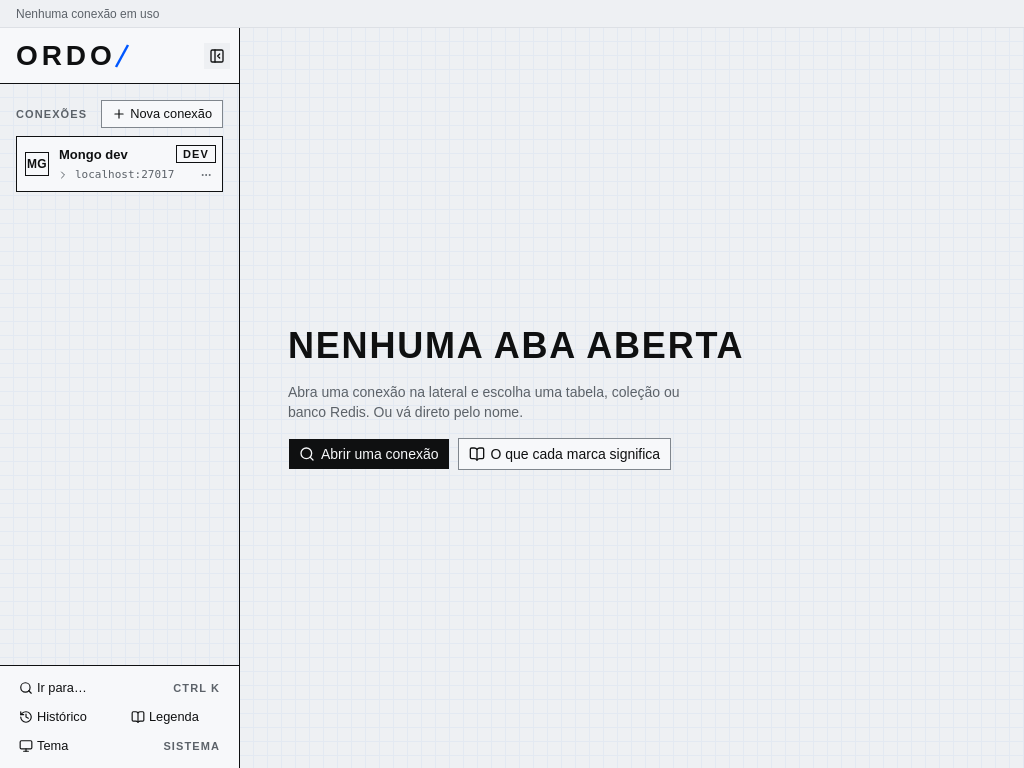
backend errors stay in the editor so the edit is not lost
Click the list item "MG Mongo dev Dev localhost:27017": (120, 164) [17,137,222,191]
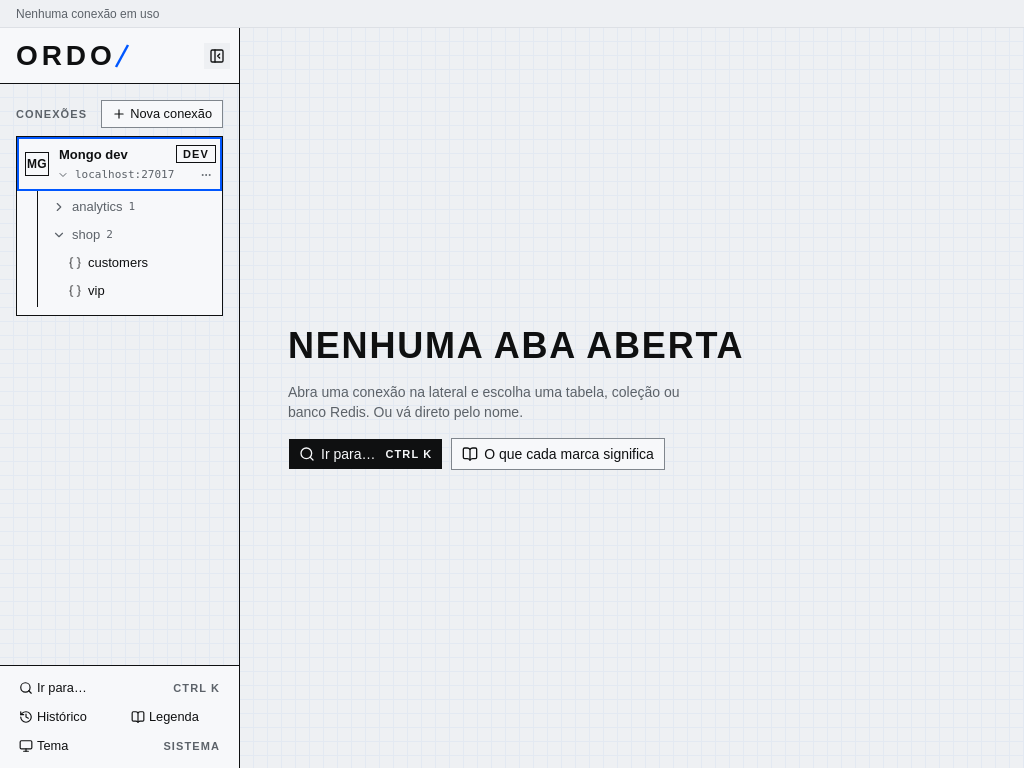
Click the list item "customers": (142, 263) [62,249,222,277]
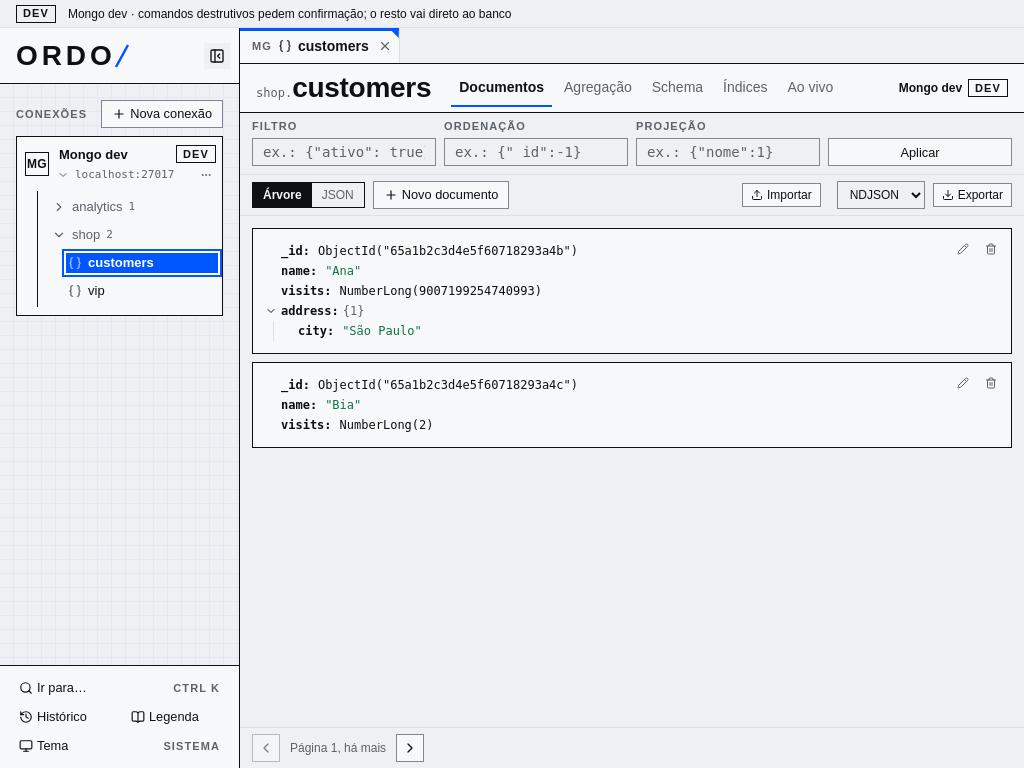
Now the text "ObjectId(\"65a1b2c3d4e5f60718293a4b\")" is shown, box [318,243,578,259]
Click the button named "Editar documento": (963, 249) [951,237,975,261]
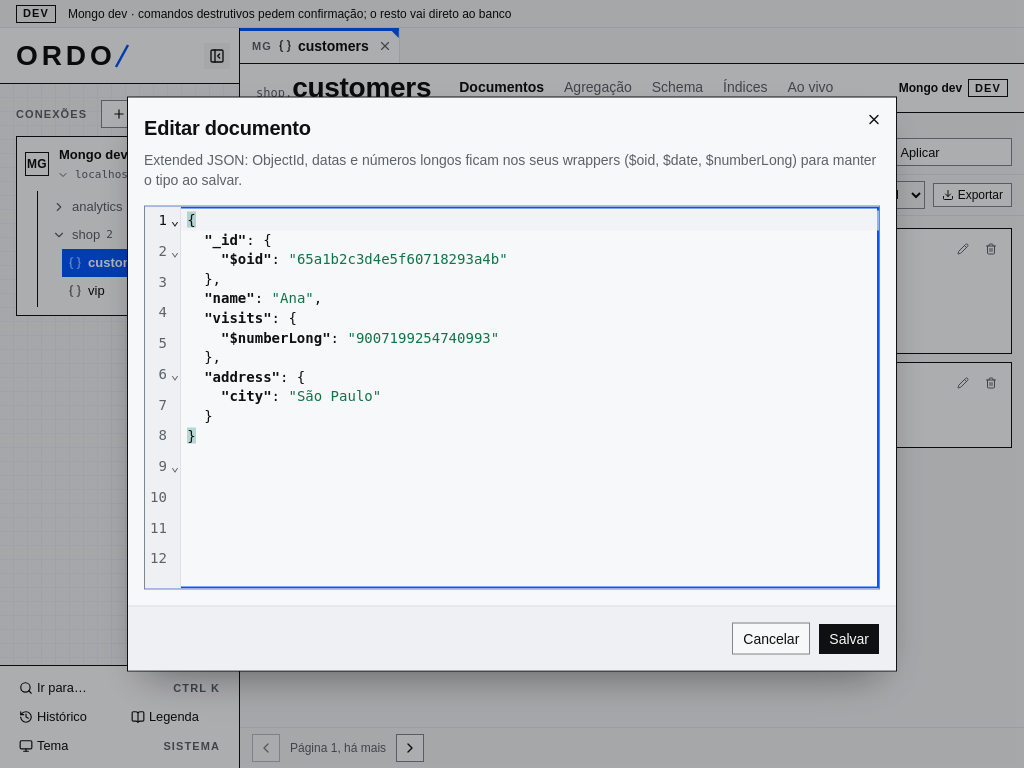
Click the button "Salvar": (849, 638) [818,622,880,654]
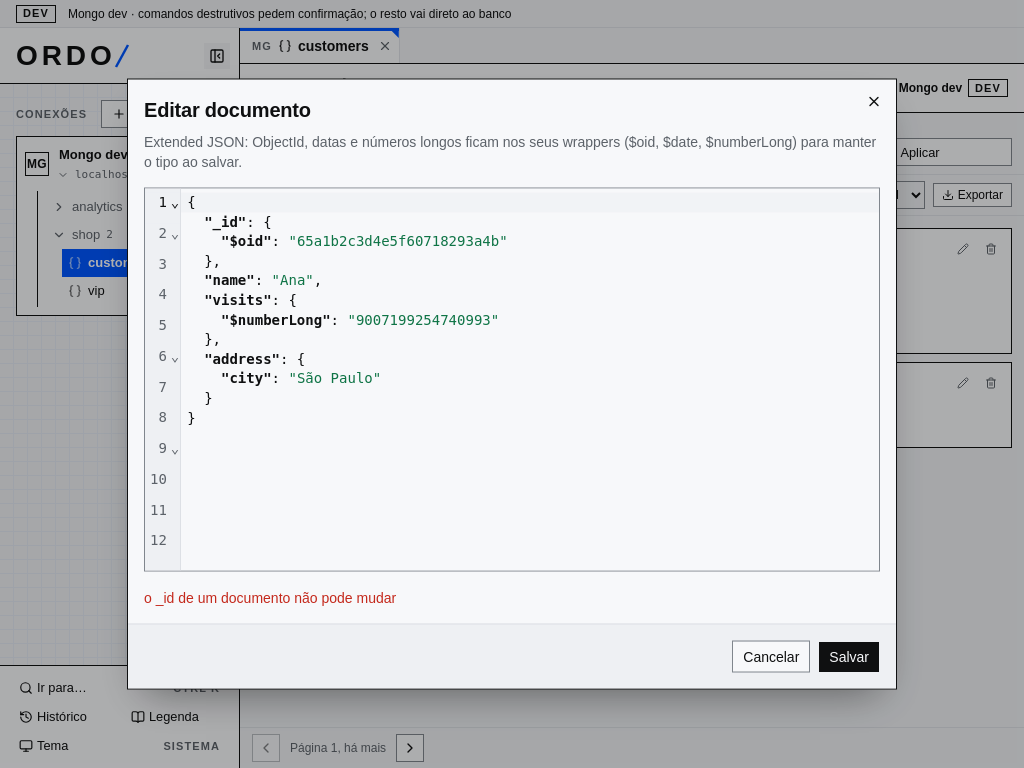
Now the message shows "não pode mudar", box [144,590,396,606]
